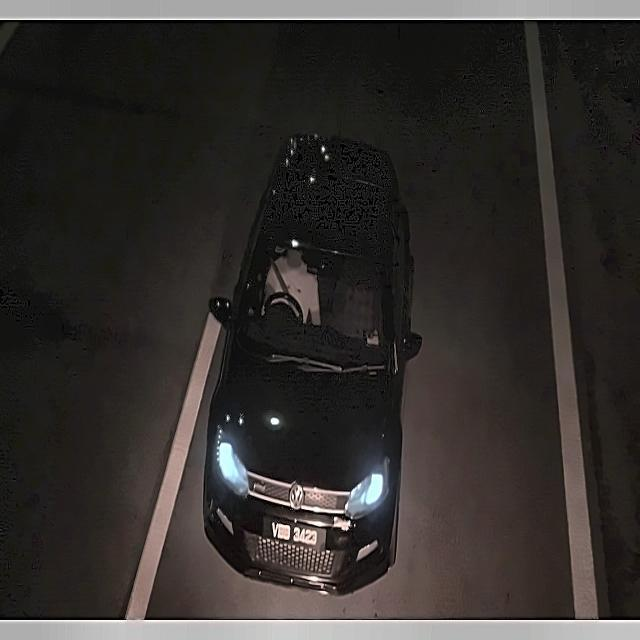car: (259, 508, 330, 556)
